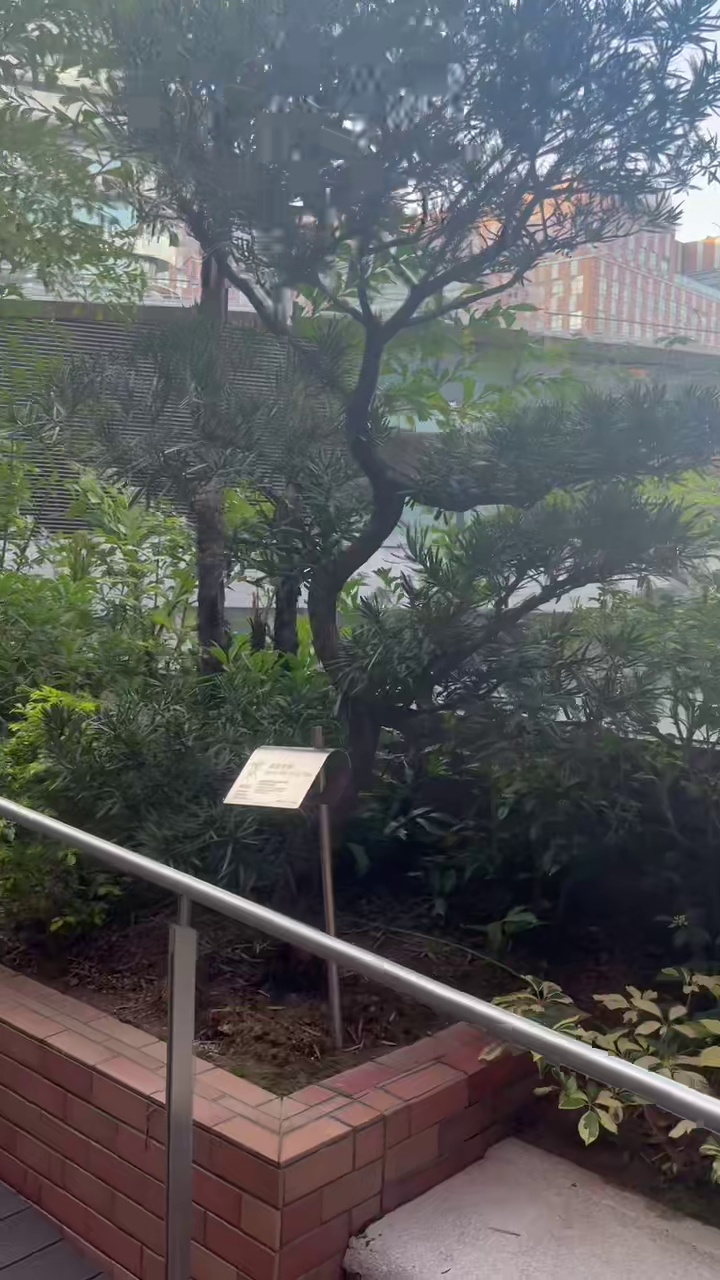Podocarpus macrophyllus: (94, 0, 719, 785)
